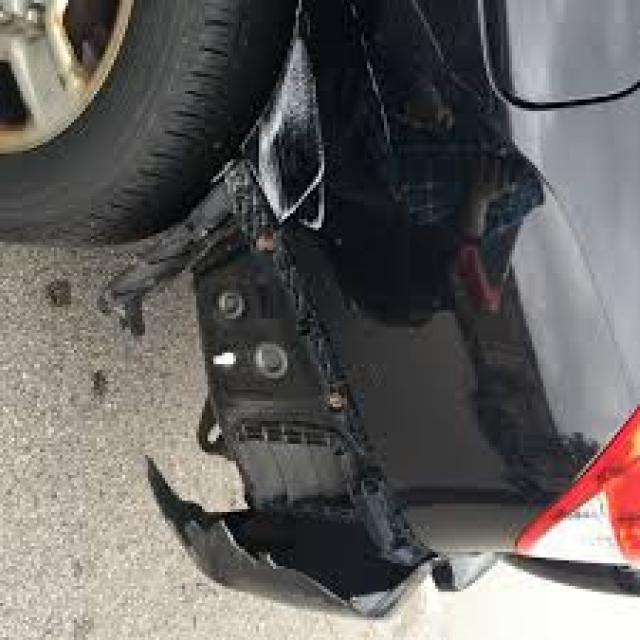damaged-rear-bumper: (156, 178, 438, 618)
